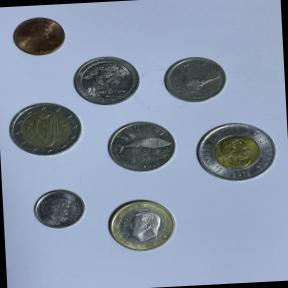coin: (186, 112, 284, 190), (97, 192, 182, 256), (3, 98, 85, 162), (102, 114, 184, 178), (70, 50, 144, 110), (4, 9, 72, 62), (28, 183, 90, 233)
